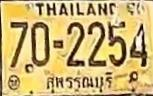0: (30, 21, 49, 66)
2: (86, 21, 106, 66), (66, 21, 84, 66)
4: (129, 22, 147, 66)
5: (107, 20, 126, 66)
7: (9, 21, 27, 67)
SPB: (44, 71, 116, 95)
